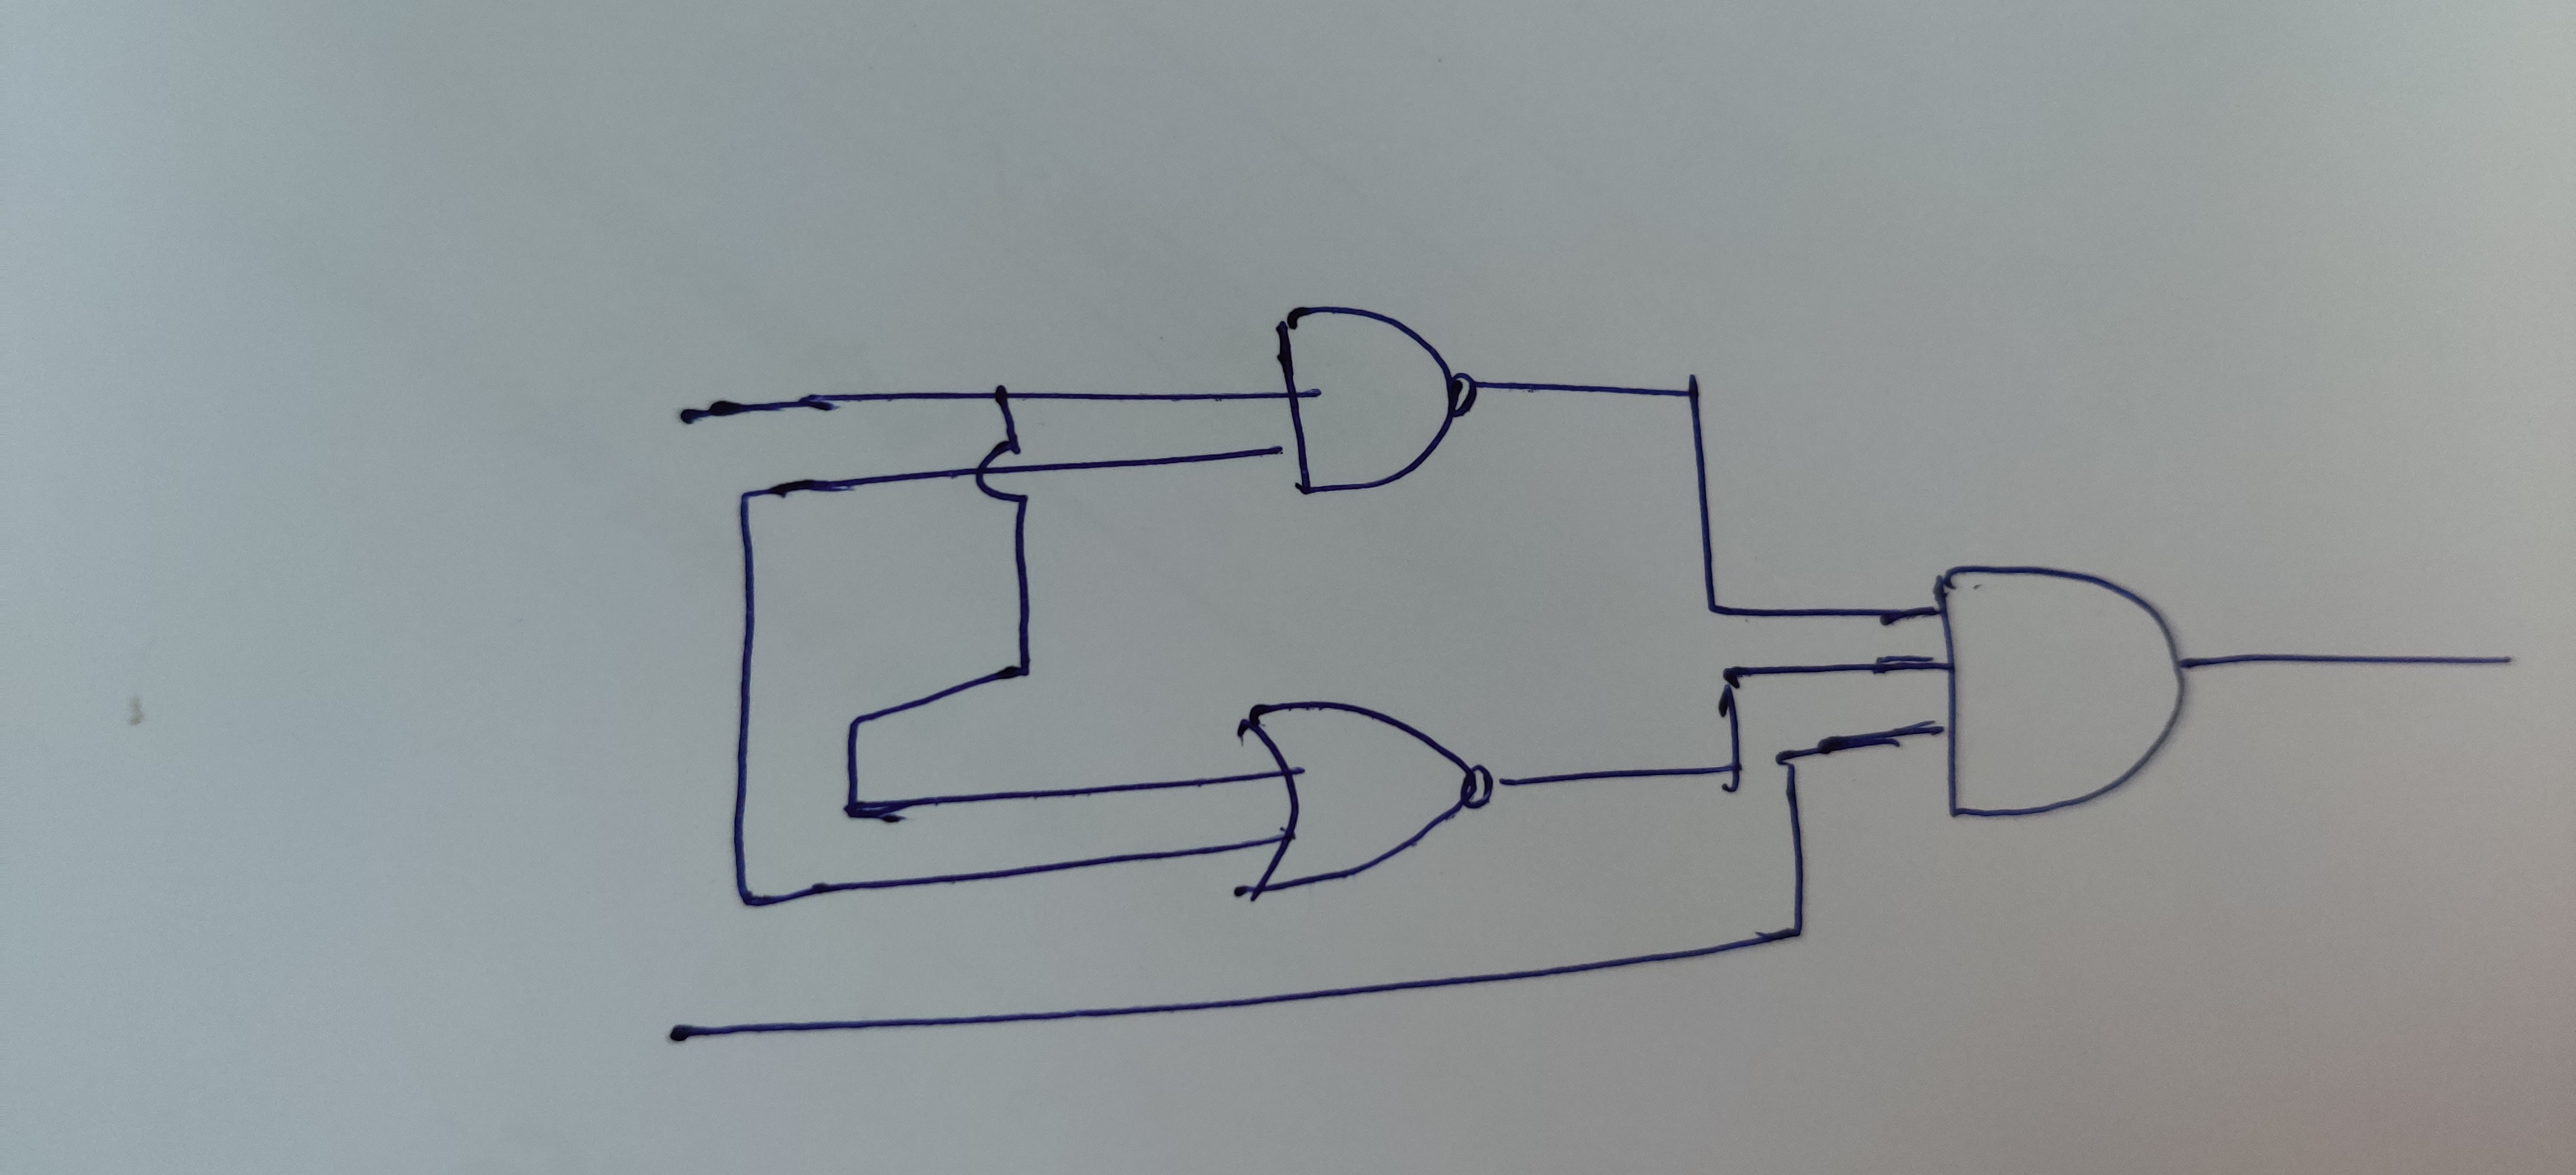and: (1893, 536, 2221, 861)
nand: (1224, 274, 1510, 565)
nor: (1211, 674, 1549, 922)
